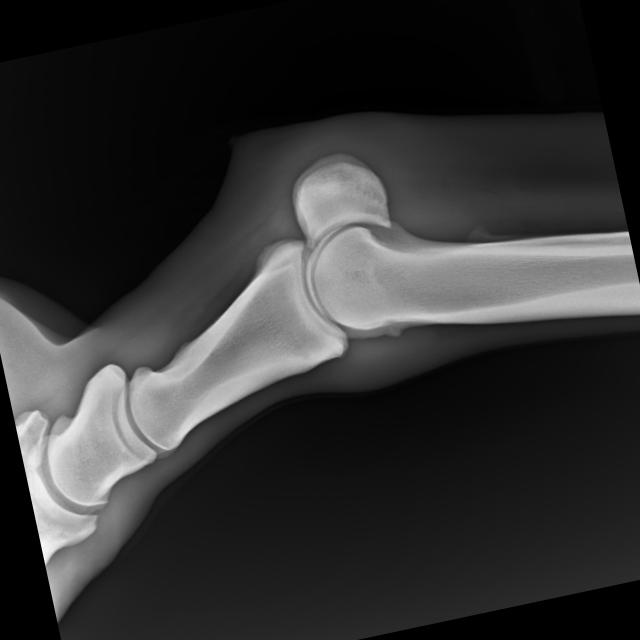joint-ht8A: (207, 93, 481, 425)
